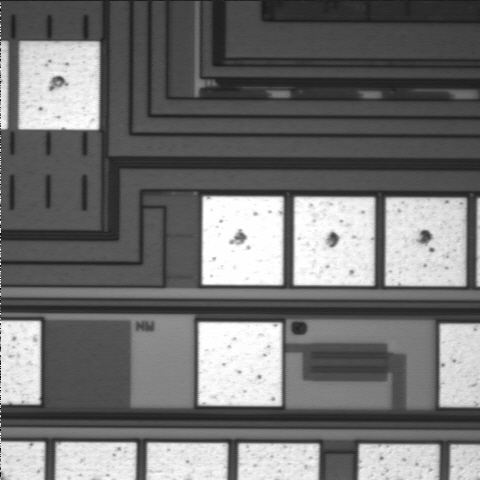pad: (202, 196, 284, 285), (19, 41, 100, 130), (294, 197, 375, 286), (385, 198, 466, 286), (198, 322, 282, 406)
